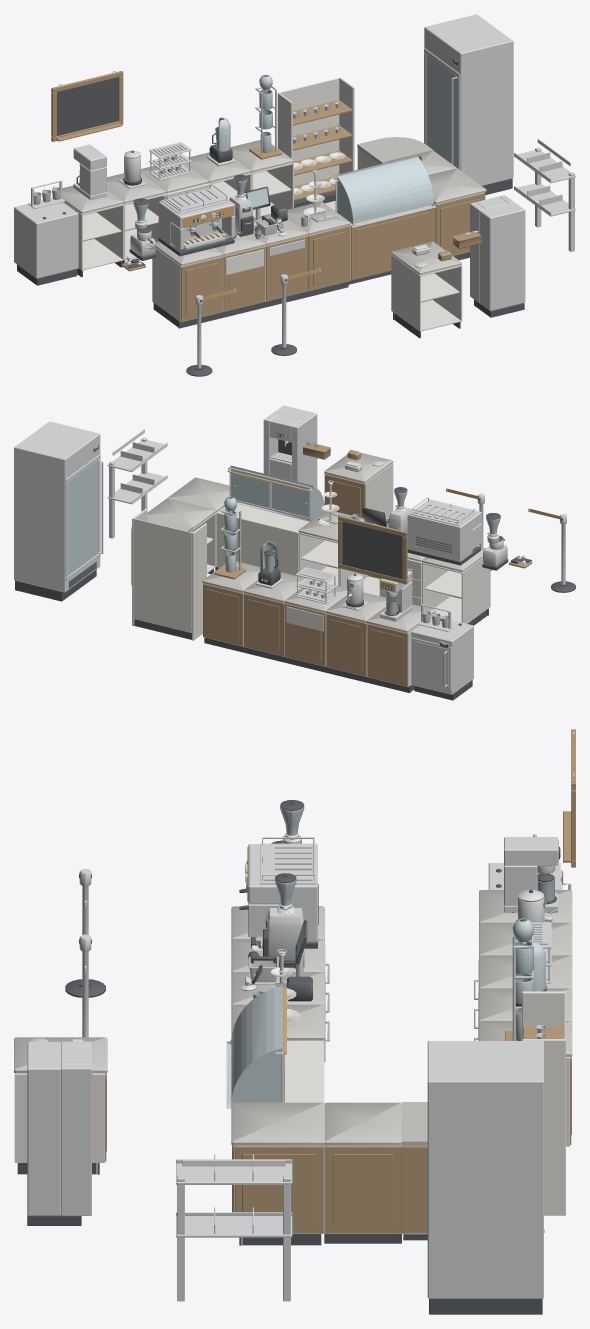
File: shop and objects-model-slightly-unfucked.glb
3 renders of one model, top to bottom at view 1: azimuth 30°, elevation 25°; view 2: azimuth 150°, elevation 25°; view 3: azimuth 270°, elevation 25°, orthographic. The views are drawn at different scales.
Visible parts, largest first — view 1: 028-grab-and-go-chiller/1, 030-water-station/1, 021-crockery-shelf-unit/0, 004-pastry-case-curved/4, 015-milk-fridge-undercounter/1, 029-condiment-bar/0, 004-pastry-case-curved/2, 008-espresso-machine-2-group/1, 028-grab-and-go-chiller/door.001, 034-order-collection-shelf/0, 035-menu-board-chalk-frame/1, 016-counter-module-600/0 (+37 smaller); view 2: 028-grab-and-go-chiller/1, 021-crockery-shelf-unit/0, 004-pastry-case-curved/1, 008-espresso-machine-2-group/1, 030-water-station/1, 000-counter-module-600/0, 028-grab-and-go-chiller/door.001, 035-menu-board-chalk-frame/1, 034-order-collection-shelf/0, 015-milk-fridge-undercounter/1, 019-counter-module-600/2, 016-counter-module-600/2 (+39 smaller); view 3: 028-grab-and-go-chiller/1, 030-water-station/1, 034-order-collection-shelf/0, 006-counter-module-600/2, 021-crockery-shelf-unit/0, 004-pastry-case-curved/4, 008-espresso-machine-2-group/1, 005-counter-corner/2, 005-counter-corner/3, 006-counter-module-600/3, 022-batch-brewer/1, 004-pastry-case-curved/1 (+22 smaller).
Boxes of the visible parts, x1=… form: 028-grab-and-go-chiller/1: x1=424, y1=14, x2=513, y2=185; 030-water-station/1: x1=470, y1=195, x2=525, y2=310; 021-crockery-shelf-unit/0: x1=277, y1=77, x2=354, y2=194; 004-pastry-case-curved/4: x1=337, y1=157, x2=433, y2=224; 015-milk-fridge-undercounter/1: x1=14, y1=202, x2=78, y2=278; 029-condiment-bar/0: x1=391, y1=244, x2=462, y2=331; 004-pastry-case-curved/2: x1=351, y1=205, x2=435, y2=280; 008-espresso-machine-2-group/1: x1=158, y1=184, x2=235, y2=249; 028-grab-and-go-chiller/door.001: x1=426, y1=54, x2=457, y2=167; 034-order-collection-shelf/0: x1=514, y1=147, x2=575, y2=251; 035-menu-board-chalk-frame/1: x1=57, y1=77, x2=118, y2=135; 016-counter-module-600/0: x1=63, y1=201, x2=124, y2=270; 028-grab-and-go-chiller/1: x1=14, y1=421, x2=100, y2=592; 021-crockery-shelf-unit/0: x1=132, y1=508, x2=206, y2=640; 004-pastry-case-curved/1: x1=216, y1=504, x2=308, y2=576; 008-espresso-machine-2-group/1: x1=407, y1=497, x2=481, y2=561; 030-water-station/1: x1=263, y1=405, x2=317, y2=488; 000-counter-module-600/0: x1=422, y1=558, x2=490, y2=623; 028-grab-and-go-chiller/door.001: x1=68, y1=460, x2=98, y2=575; 035-menu-board-chalk-frame/1: x1=342, y1=521, x2=402, y2=579; 034-order-collection-shelf/0: x1=107, y1=437, x2=167, y2=538; 015-milk-fridge-undercounter/1: x1=411, y1=617, x2=473, y2=694; 019-counter-module-600/2: x1=244, y1=593, x2=284, y2=656; 016-counter-module-600/2: x1=367, y1=623, x2=407, y2=686; 028-grab-and-go-chiller/1: x1=427, y1=1041, x2=544, y2=1298; 030-water-station/1: x1=27, y1=1041, x2=92, y2=1215; 034-order-collection-shelf/0: x1=176, y1=1154, x2=292, y2=1301; 006-counter-module-600/2: x1=325, y1=1146, x2=401, y2=1233; 021-crockery-shelf-unit/0: x1=522, y1=991, x2=565, y2=1215; 004-pastry-case-curved/4: x1=231, y1=986, x2=282, y2=1103; 008-espresso-machine-2-group/1: x1=245, y1=837, x2=318, y2=942; 005-counter-corner/2: x1=232, y1=1145, x2=323, y2=1233; 005-counter-corner/3: x1=231, y1=1102, x2=324, y2=1145; 006-counter-module-600/3: x1=325, y1=1102, x2=401, y2=1145; 022-batch-brewer/1: x1=504, y1=837, x2=560, y2=912; 004-pastry-case-curved/1: x1=283, y1=1041, x2=324, y2=1102.
Bounding box in the file's own units: 6.47 × 2.3 × 4.35.
